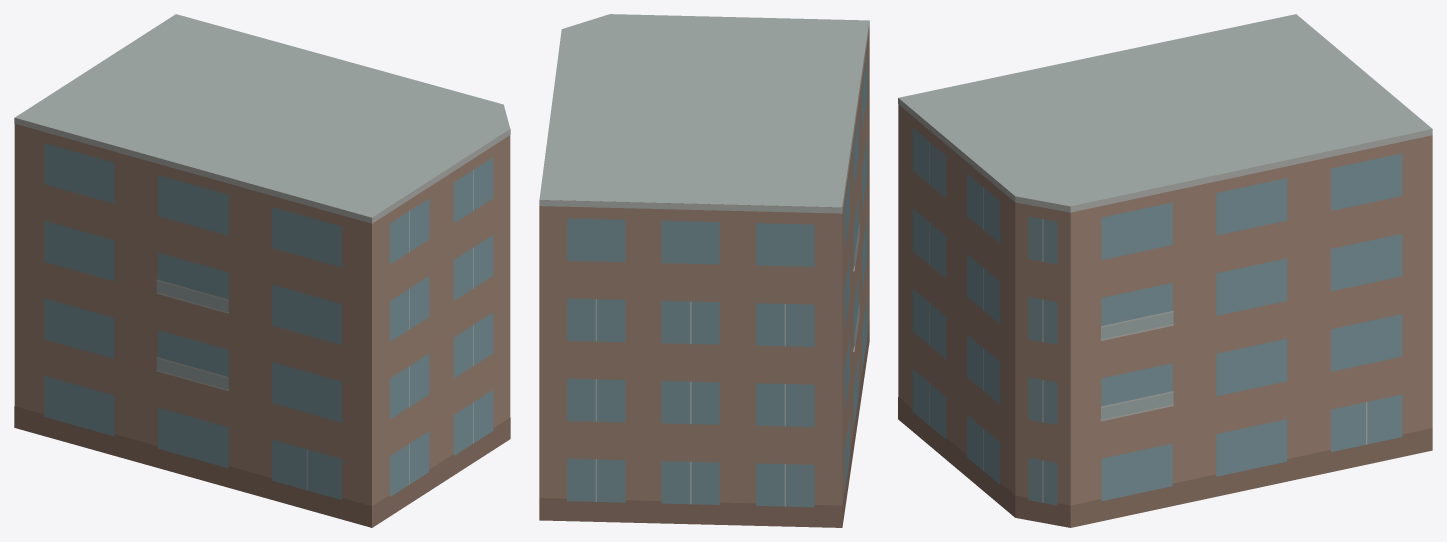
Rendered from survey-upis-32837290.glb.
3 views of the same model, side by side, from view 1: azimuth 30°, elevation 25°; view 2: azimuth 150°, elevation 25°; view 3: azimuth 270°, elevation 25° (orthographic). The views are drawn at different scales.
Visible parts, largest first — view 1: survey-upis-32837290.tmp; view 2: survey-upis-32837290.tmp; view 3: survey-upis-32837290.tmp.
Part boxes in pixels (x1=…): survey-upis-32837290.tmp: x1=14, y1=14, x2=510, y2=527; survey-upis-32837290.tmp: x1=539, y1=14, x2=869, y2=527; survey-upis-32837290.tmp: x1=898, y1=14, x2=1432, y2=527.
Size of the model in its own units: 16.22 by 12.63 by 19.04.
